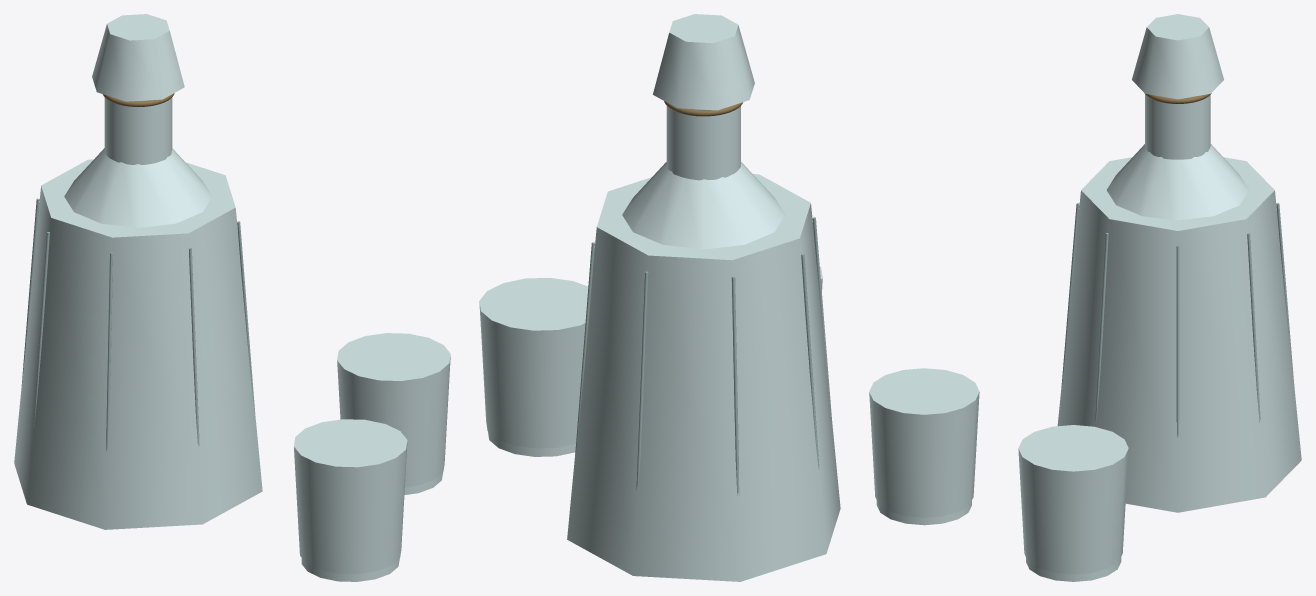
Rendered from bar-decanter.glb.
3 renders of one model, left to right at view 1: azimuth 30°, elevation 25°; view 2: azimuth 150°, elevation 25°; view 3: azimuth 270°, elevation 25°, orthographic. The views are drawn at different scales.
Parts seen in each view (by area): view 1: part::bar-decanter/octagonal-crystal-body-001, part::bar-decanter/tumbler-glass-002, part::bar-decanter/tumbler-glass-001, part::bar-decanter/decanter-shoulder-001, part::bar-decanter/faceted-stopper-001, part::bar-decanter/long-glass-neck-001, part::bar-decanter/heavy-tumbler-foot-002, part::bar-decanter/cut-crystal-edge-004, part::bar-decanter/cut-crystal-edge-003, part::bar-decanter/cut-crystal-edge-005, part::bar-decanter/cut-crystal-edge-002; view 2: part::bar-decanter/octagonal-crystal-body-001, part::bar-decanter/tumbler-glass-001, part::bar-decanter/decanter-shoulder-001, part::bar-decanter/faceted-stopper-001, part::bar-decanter/long-glass-neck-001, part::bar-decanter/cut-crystal-edge-006, part::bar-decanter/cut-crystal-edge-007, part::bar-decanter/heavy-tumbler-foot-001, part::bar-decanter/cut-crystal-edge-005, part::bar-decanter/cut-crystal-edge-008, part::bar-decanter/cut-crystal-edge-004, part::bar-decanter/neck-brass-collar-001; view 3: part::bar-decanter/octagonal-crystal-body-001, part::bar-decanter/tumbler-glass-002, part::bar-decanter/tumbler-glass-001, part::bar-decanter/decanter-shoulder-001, part::bar-decanter/faceted-stopper-001, part::bar-decanter/long-glass-neck-001, part::bar-decanter/heavy-tumbler-foot-002, part::bar-decanter/heavy-tumbler-foot-001, part::bar-decanter/cut-crystal-edge-001, part::bar-decanter/cut-crystal-edge-002, part::bar-decanter/cut-crystal-edge-008.
Part boxes in pixels (left/top/right/bottom): part::bar-decanter/octagonal-crystal-body-001: left=14, top=159, right=262, bottom=529; part::bar-decanter/tumbler-glass-002: left=294, top=419, right=407, bottom=574; part::bar-decanter/tumbler-glass-001: left=337, top=333, right=450, bottom=487; part::bar-decanter/decanter-shoulder-001: left=64, top=148, right=212, bottom=227; part::bar-decanter/faceted-stopper-001: left=92, top=14, right=184, bottom=101; part::bar-decanter/long-glass-neck-001: left=104, top=97, right=172, bottom=164; part::bar-decanter/heavy-tumbler-foot-002: left=301, top=558, right=399, bottom=581; part::bar-decanter/cut-crystal-edge-004: left=106, top=252, right=112, bottom=451; part::bar-decanter/cut-crystal-edge-003: left=189, top=248, right=199, bottom=446; part::bar-decanter/cut-crystal-edge-005: left=33, top=232, right=49, bottom=428; part::bar-decanter/cut-crystal-edge-002: left=237, top=221, right=254, bottom=415; part::bar-decanter/octagonal-crystal-body-001: left=567, top=174, right=840, bottom=581; part::bar-decanter/tumbler-glass-001: left=479, top=277, right=588, bottom=448; part::bar-decanter/decanter-shoulder-001: left=622, top=162, right=785, bottom=249; part::bar-decanter/faceted-stopper-001: left=653, top=14, right=754, bottom=110; part::bar-decanter/long-glass-neck-001: left=666, top=106, right=740, bottom=180; part::bar-decanter/cut-crystal-edge-006: left=731, top=276, right=739, bottom=495; part::bar-decanter/cut-crystal-edge-007: left=636, top=271, right=648, bottom=490; part::bar-decanter/heavy-tumbler-foot-001: left=488, top=431, right=575, bottom=456; part::bar-decanter/cut-crystal-edge-005: left=801, top=254, right=819, bottom=469; part::bar-decanter/cut-crystal-edge-008: left=575, top=242, right=594, bottom=454; part::bar-decanter/cut-crystal-edge-004: left=812, top=217, right=832, bottom=426; part::bar-decanter/neck-brass-collar-001: left=664, top=101, right=742, bottom=116; part::bar-decanter/octagonal-crystal-body-001: left=1057, top=157, right=1301, bottom=512; part::bar-decanter/tumbler-glass-002: left=869, top=368, right=979, bottom=517; part::bar-decanter/tumbler-glass-001: left=1018, top=425, right=1128, bottom=574; part::bar-decanter/decanter-shoulder-001: left=1106, top=144, right=1249, bottom=220; part::bar-decanter/faceted-stopper-001: left=1132, top=14, right=1223, bottom=99; part::bar-decanter/long-glass-neck-001: left=1145, top=94, right=1210, bottom=159; part::bar-decanter/heavy-tumbler-foot-002: left=876, top=500, right=971, bottom=525; part::bar-decanter/heavy-tumbler-foot-001: left=1026, top=557, right=1121, bottom=581; part::bar-decanter/cut-crystal-edge-001: left=1176, top=245, right=1179, bottom=437; part::bar-decanter/cut-crystal-edge-002: left=1095, top=233, right=1108, bottom=422; part::bar-decanter/cut-crystal-edge-008: left=1247, top=233, right=1260, bottom=422.
Bounding box in the file's own units: 0.27 × 0.3255 × 0.29.
